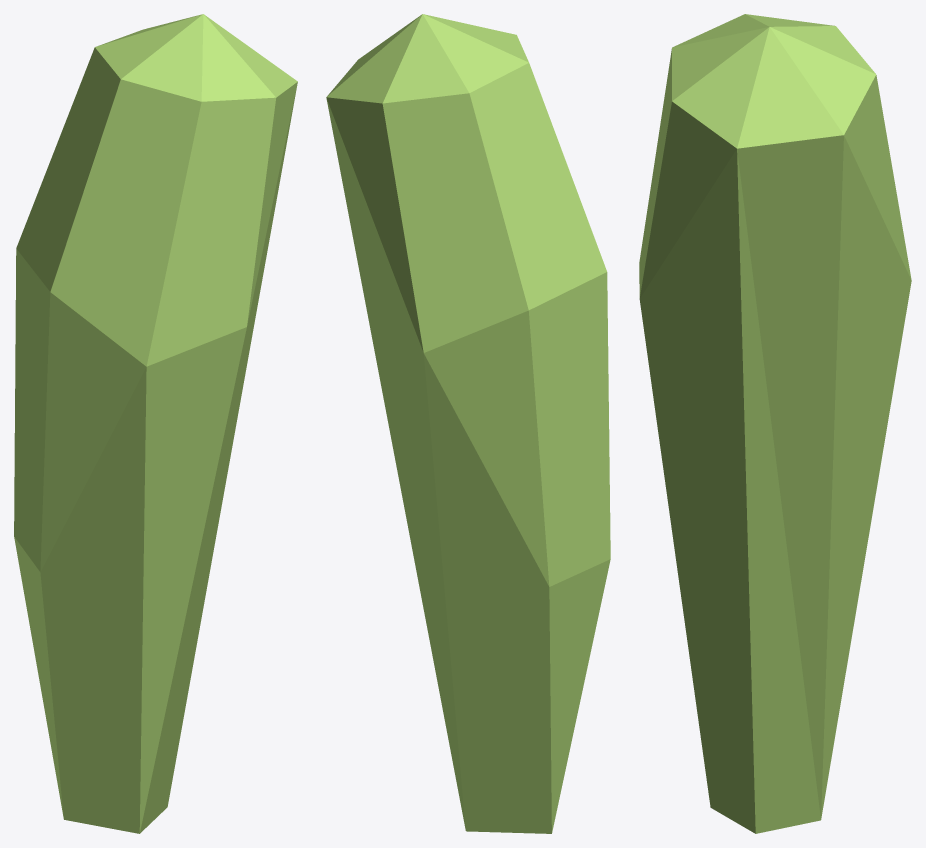
The model's file is Cactus_a_m_02.fbx.
3 views of the same model, side by side, from view 1: azimuth 30°, elevation 25°; view 2: azimuth 150°, elevation 25°; view 3: azimuth 270°, elevation 25° (orthographic). The views are drawn at different scales.
Visible parts, largest first — view 1: Cactus_a_m_02; view 2: Cactus_a_m_02; view 3: Cactus_a_m_02.
Boxes of the visible parts, <box> form: Cactus_a_m_02: <box>14,14,297,833</box>; Cactus_a_m_02: <box>326,14,610,833</box>; Cactus_a_m_02: <box>639,14,911,833</box>.
Bounding box in the file's own units: 75.94 × 222 × 66.18.
